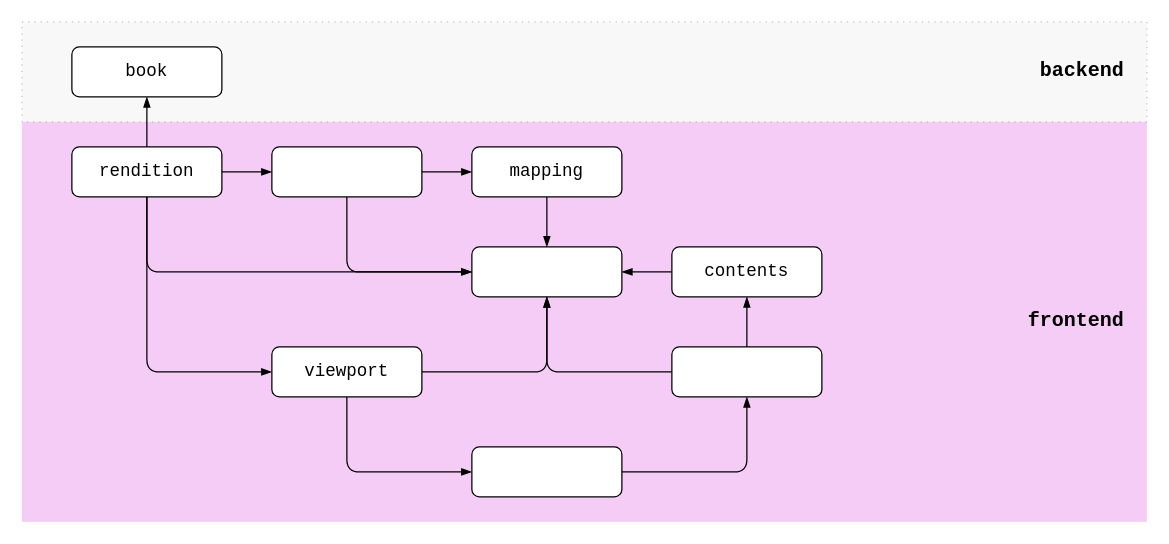
The diagram is 1169 pixels wide and 544 high, and some of its shapes have lost their labels. Each missing label, with the centre of its shape:
"[view]" belongs at point (746, 371).
"layout" belongs at point (546, 271).
"manager" belongs at point (346, 171).
"views" belongs at point (546, 471).
